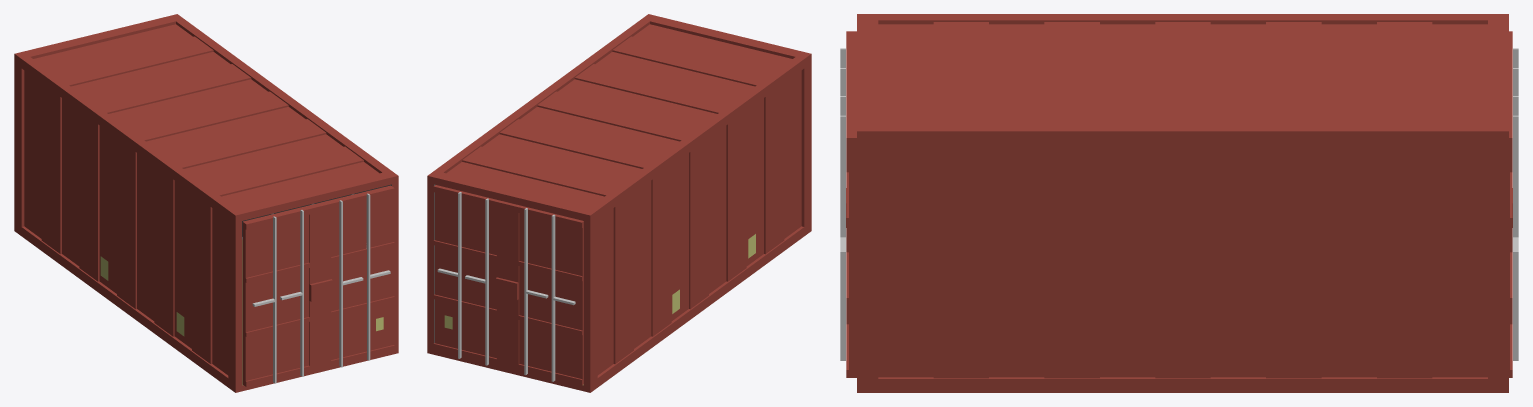
Rendered from container.fbx.
3 views of the same model, side by side, from view 1: azimuth 30°, elevation 25°; view 2: azimuth 150°, elevation 25°; view 3: azimuth 270°, elevation 25° (orthographic). The views are drawn at different scales.
Visible parts, largest first — view 1: container, container_doorFrontL, container_doorFrontR; view 2: container, container_doorBackL, container_doorBackR; view 3: container, container_doorFrontR, container_doorBackR, container_doorFrontL.
Boxes of the visible parts, left/top/right/bottom form: container: left=14, top=14, right=398, bottom=392; container_doorFrontL: left=242, top=203, right=321, bottom=387; container_doorFrontR: left=317, top=185, right=394, bottom=368; container: left=427, top=14, right=811, bottom=392; container_doorBackL: left=506, top=203, right=583, bottom=385; container_doorBackR: left=433, top=185, right=509, bottom=367; container: left=857, top=14, right=1508, bottom=392; container_doorFrontR: left=840, top=84, right=856, bottom=377; container_doorBackR: left=1509, top=84, right=1518, bottom=377; container_doorFrontL: left=840, top=31, right=856, bottom=195.
Size of the model in its own units: 358 by 372 by 874.
